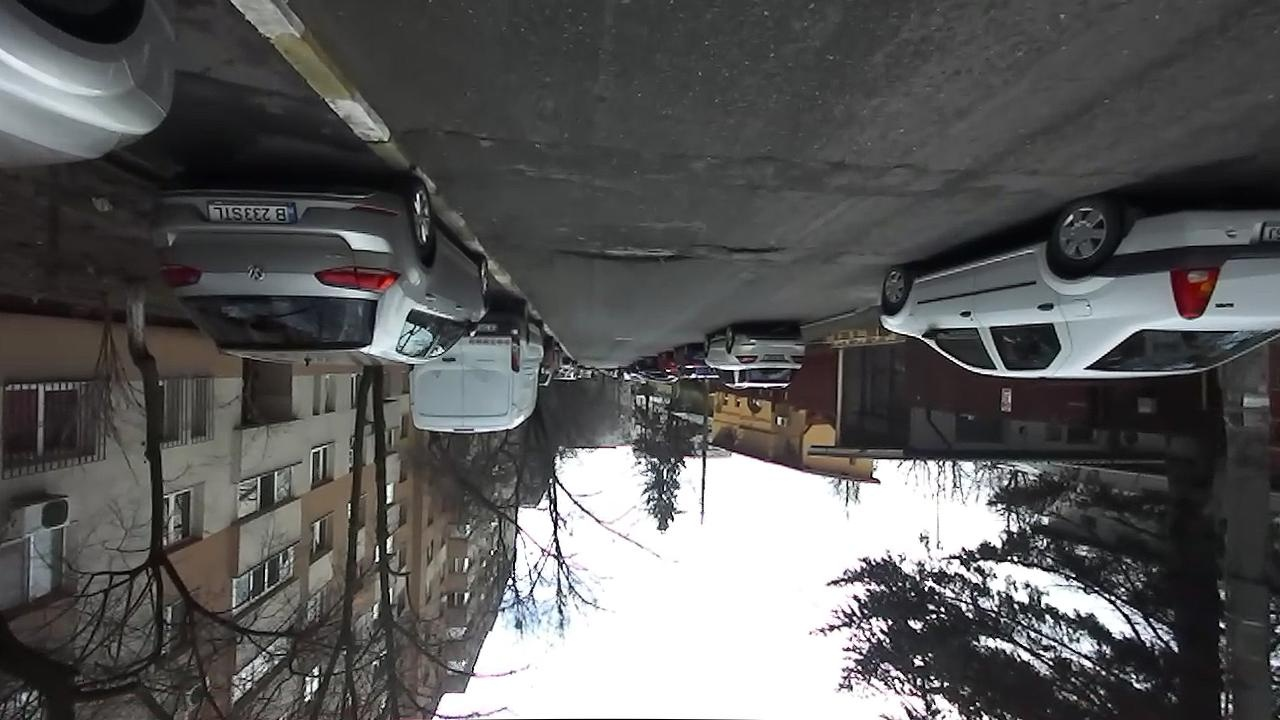pothole: (552, 244, 693, 268), (404, 121, 505, 152), (702, 243, 787, 258)
